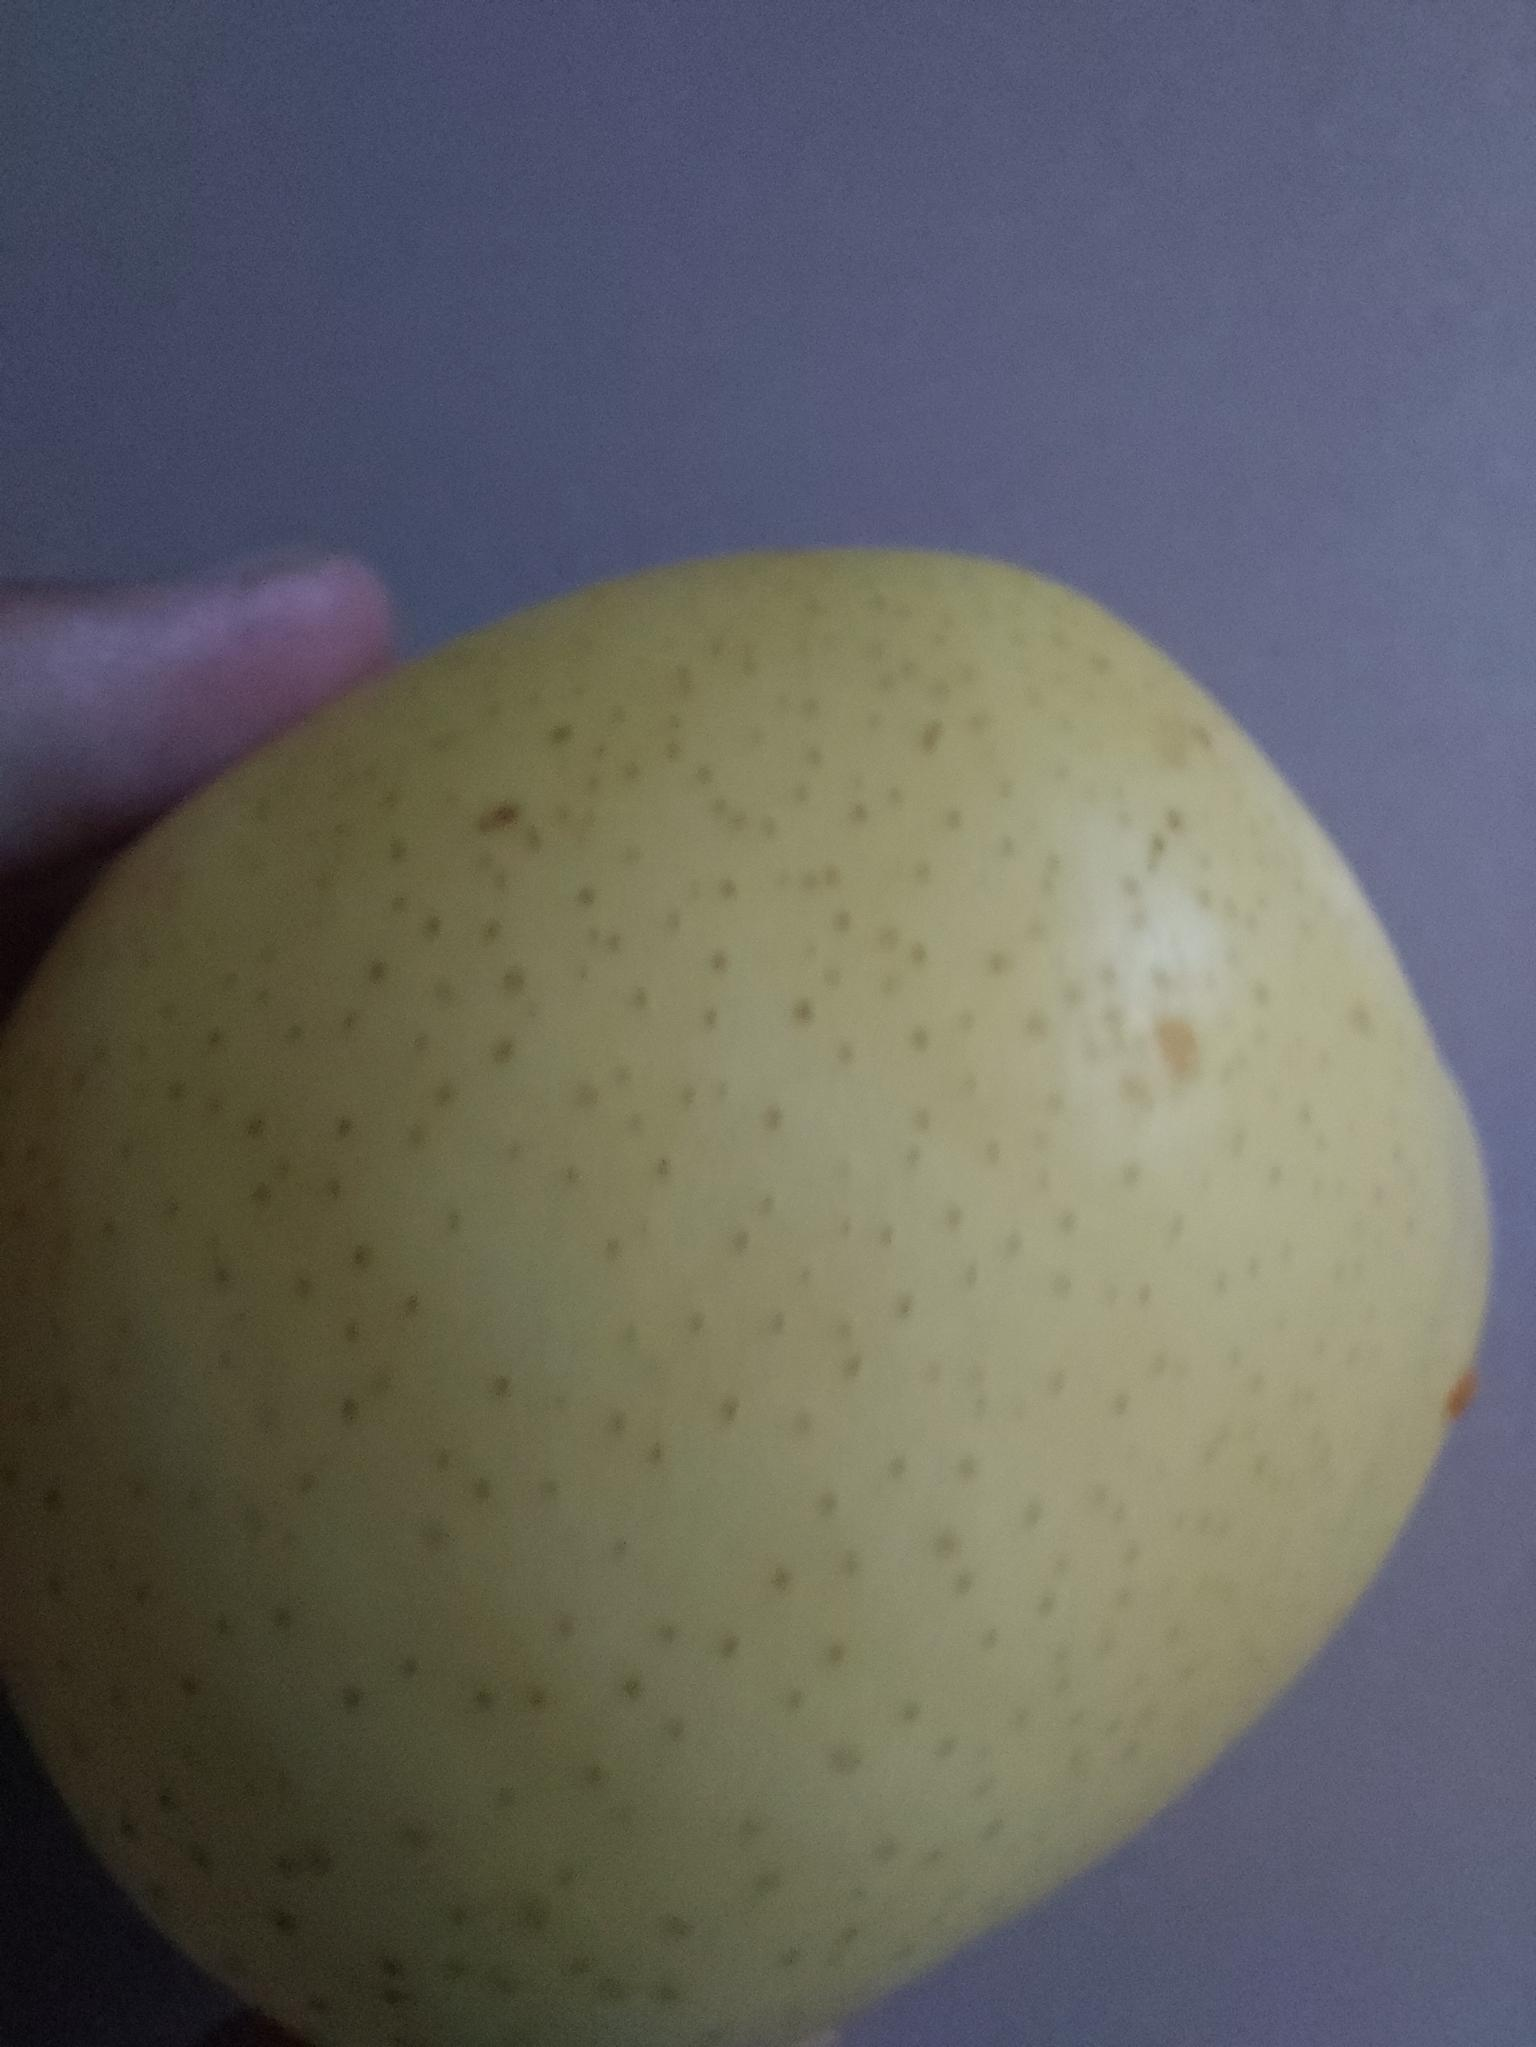Good Pear: (4, 542, 1498, 2047)
